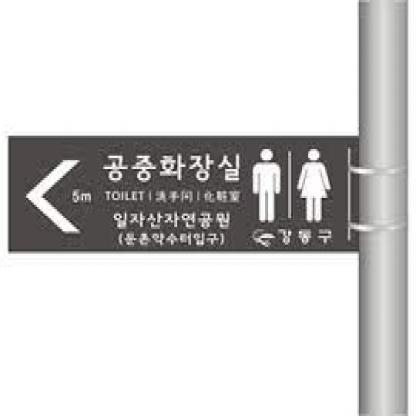toilet: (249, 146, 332, 228)
